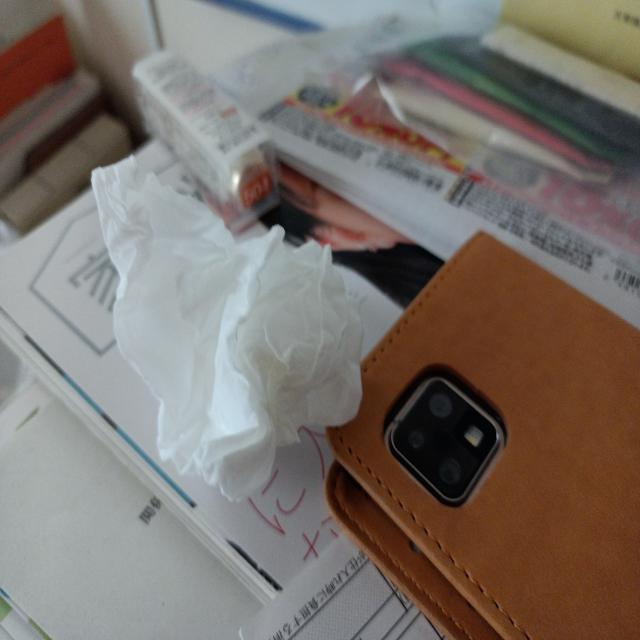Paper: (84, 146, 374, 484)
